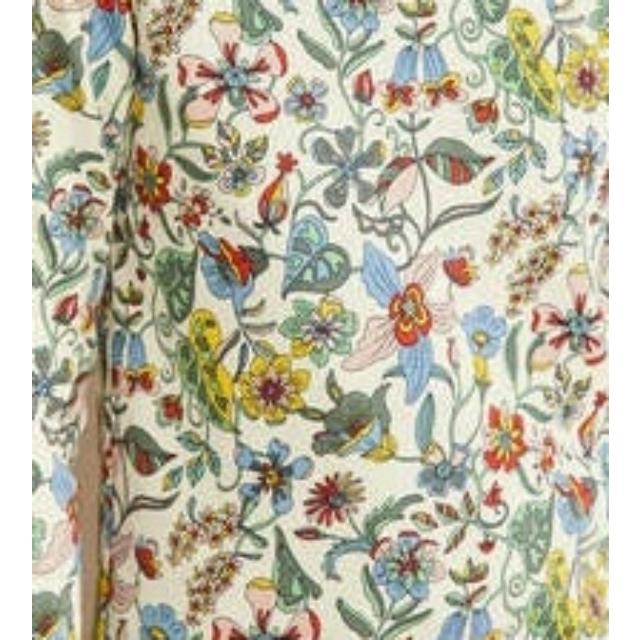cotton: (31, 0, 608, 640)
